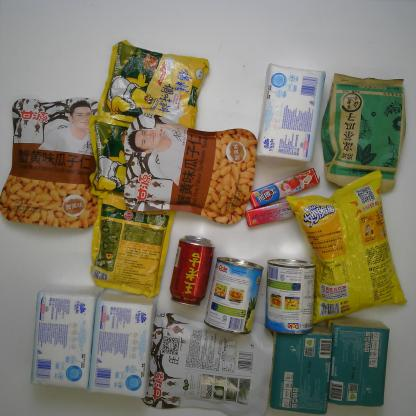Candy: (246, 161, 320, 227), (247, 201, 327, 228)
Canned Food: (260, 254, 320, 335), (206, 256, 259, 338)
Dried Food: (321, 70, 406, 193)
Dried Fruit: (124, 112, 256, 228), (146, 312, 272, 415), (3, 98, 100, 227)
Drink: (170, 233, 216, 304)
Puffed Food: (280, 172, 406, 324)
Seasoner: (98, 35, 210, 134), (90, 186, 173, 297), (88, 110, 178, 196)
Tissue: (256, 54, 326, 164), (85, 295, 153, 399), (328, 310, 394, 409), (30, 292, 94, 391), (274, 328, 332, 412)
